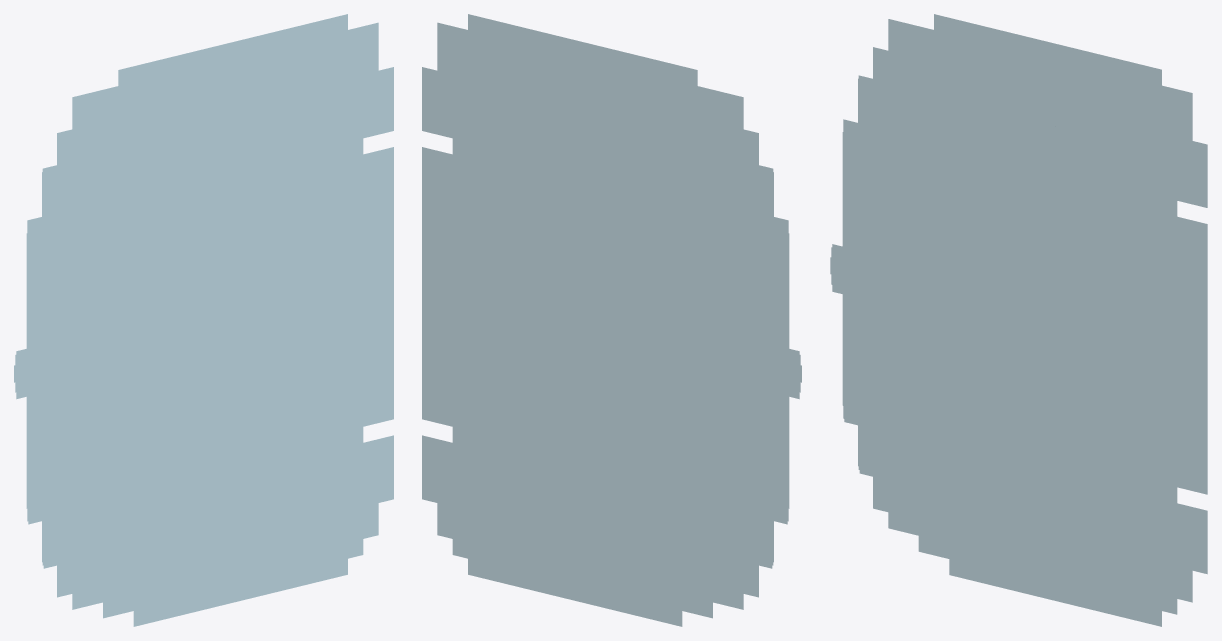
Rendered from wp_water_216.obj.
The picture shows the model from 3 angles, left to right: view 1: azimuth 30°, elevation 25°; view 2: azimuth 150°, elevation 25°; view 3: azimuth 330°, elevation 25°; orthographic projection.
Bounding box in the file's own units: 0.3476 × 0.4904 × 0.
1 material, 1 textured.
